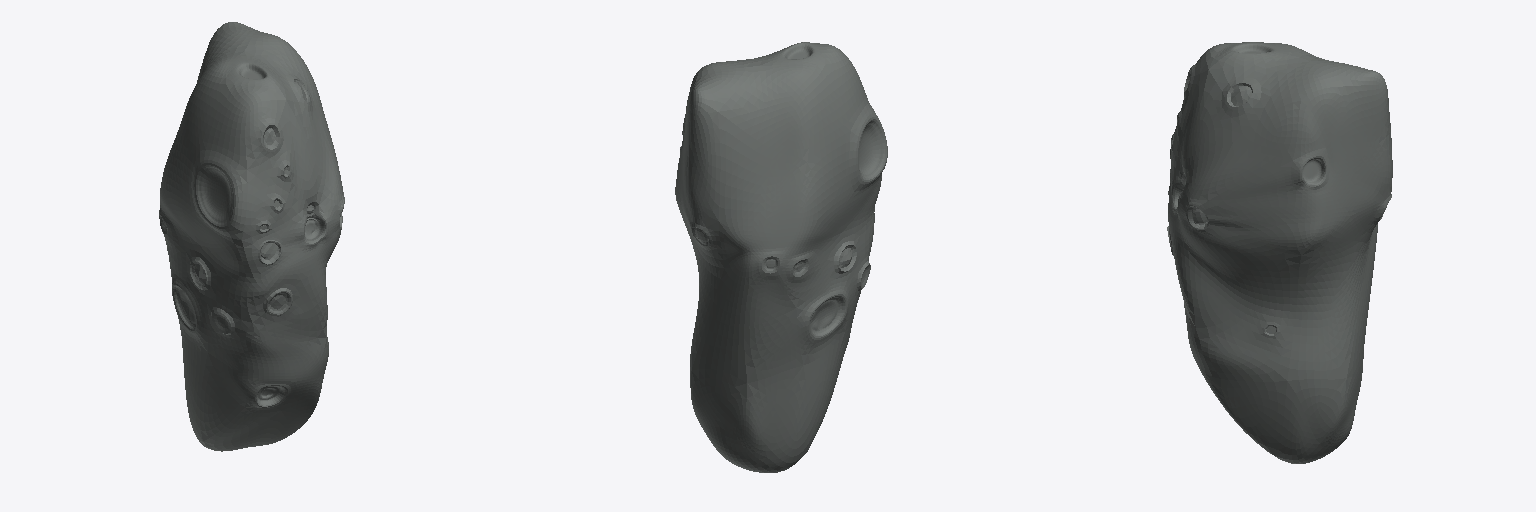
The model's file is asteroid.obj.
3 views of the same model, side by side, from view 1: azimuth 30°, elevation 25°; view 2: azimuth 150°, elevation 25°; view 3: azimuth 270°, elevation 25° (orthographic).
Parts seen in each view (by area): view 1: rock_Cube.002; view 2: rock_Cube.002; view 3: rock_Cube.002.
Boxes of the visible parts, <box> form: rock_Cube.002: <box>159,22,344,451</box>; rock_Cube.002: <box>675,42,887,472</box>; rock_Cube.002: <box>1167,42,1392,463</box>.
Size of the model in its own units: 8.56 by 21.45 by 11.01.